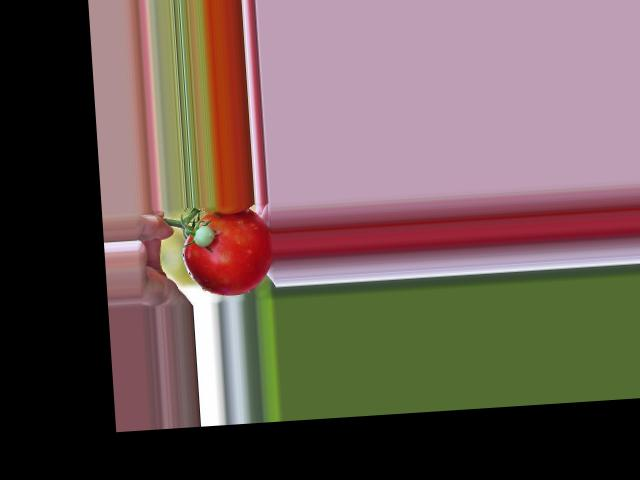tomato: (179, 207, 276, 297)
